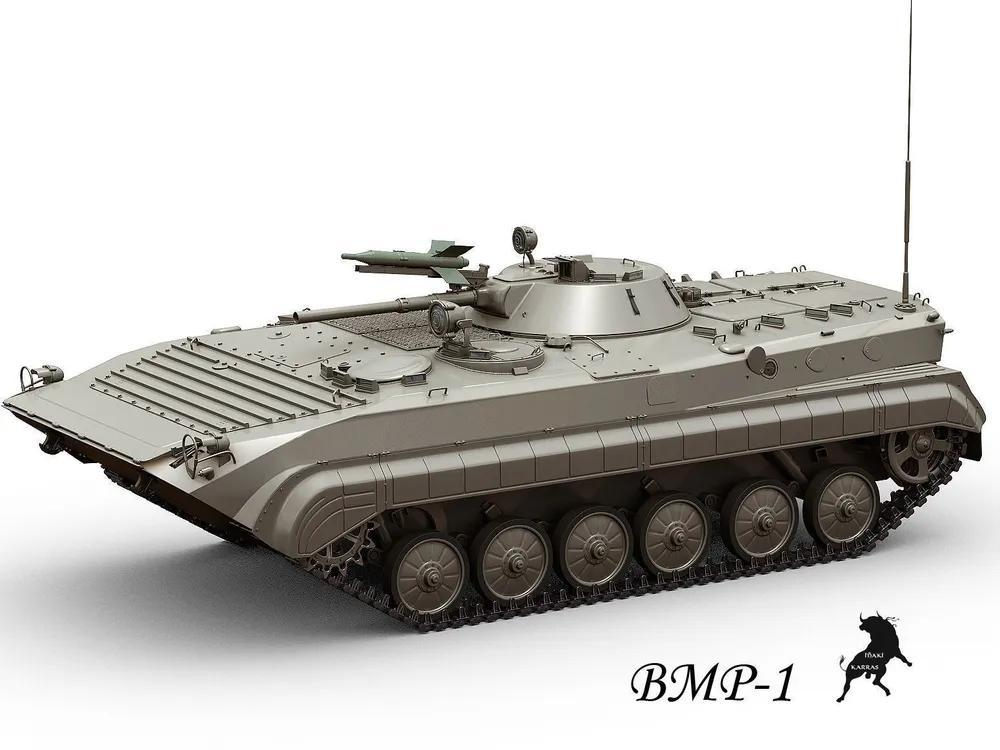MIL_IFV: (6, 216, 986, 636)
